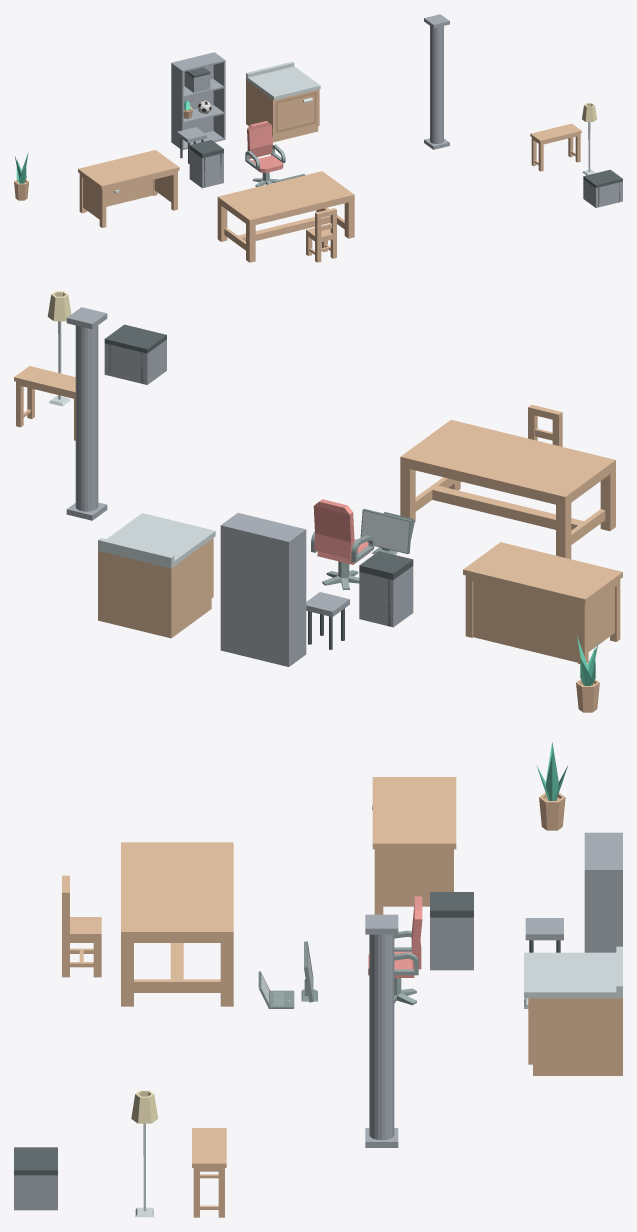
3 views of the same model, one above another, from view 1: azimuth 30°, elevation 25°; view 2: azimuth 150°, elevation 25°; view 3: azimuth 270°, elevation 25° (orthographic). The views are drawn at different scales.
Visible parts, largest first — view 1: table_green__table(Clone), desk_blue__desk(Clone), cabinet_blue__kitchenCabinet(Clone), column_cyan__column_cyan shaft, deskchair_black__chair, cabinet_blue__door, sidetable_brown__sideTable(Clone), chair_cyan__chair(Clone), bin_gray__bin_gray shell, shelf_orange__shelf_orange side_l, shelf_orange__shelf_orange side_r, crate_red__crate_red shell (+6 smaller); view 2: table_green__table(Clone), desk_blue__desk(Clone), cabinet_blue__kitchenCabinet(Clone), shelf_orange__shelf_orange back, column_cyan__column_cyan shaft, deskchair_black__chair, shelf_orange__shelf_orange side_l, bin_gray__bin_gray shell, crate_red__crate_red shell, sidetable_brown__sideTable(Clone), monitor_gray__computerScreen(Clone), crate_red__crate_red lid (+8 smaller); view 3: table_green__table(Clone), cabinet_blue__kitchenCabinet(Clone), desk_blue__desk(Clone), column_cyan__column_cyan shaft, shelf_orange__shelf_orange side_r, bin_gray__bin_gray shell, sidetable_brown__sideTable(Clone), chair_cyan__chair(Clone), crate_red__crate_red shell, deskchair_black__chair, shelf_orange__shelf_orange board3, crate_red__crate_red lid (+7 smaller).
Part boxes in pixels (left/top/right/bottom): table_green__table(Clone): left=217, top=171, right=354, bottom=262; desk_blue__desk(Clone): left=78, top=150, right=179, bottom=227; cabinet_blue__kitchenCabinet(Clone): left=246, top=61, right=320, bottom=142; column_cyan__column_cyan shaft: left=430, top=26, right=443, bottom=143; deskchair_black__chair: left=245, top=121, right=285, bottom=172; cabinet_blue__door: left=275, top=92, right=316, bottom=133; sidetable_brown__sideTable(Clone): left=530, top=123, right=581, bottom=171; chair_cyan__chair(Clone): left=306, top=208, right=336, bottom=262; bin_gray__bin_gray shell: left=189, top=149, right=223, bottom=188; shelf_orange__shelf_orange side_l: left=171, top=62, right=183, bottom=149; shelf_orange__shelf_orange side_r: left=213, top=52, right=225, bottom=139; crate_red__crate_red shell: left=583, top=179, right=622, bottom=207; table_green__table(Clone): left=400, top=420, right=615, bottom=558; desk_blue__desk(Clone): left=463, top=542, right=622, bottom=663; cabinet_blue__kitchenCabinet(Clone): left=98, top=513, right=215, bottom=638; shelf_orange__shelf_orange back: left=223, top=525, right=286, bottom=666; column_cyan__column_cyan shaft: left=75, top=325, right=98, bottom=511; deskchair_black__chair: left=311, top=499, right=374, bottom=564; shelf_orange__shelf_orange side_l: left=286, top=529, right=306, bottom=666; bin_gray__bin_gray shell: left=359, top=566, right=413, bottom=627; crate_red__crate_red shell: left=104, top=339, right=166, bottom=384; sidetable_brown__sideTable(Clone): left=14, top=366, right=75, bottom=440; monitor_gray__computerScreen(Clone): left=360, top=508, right=412, bottom=554; crate_red__crate_red lid: left=104, top=324, right=166, bottom=353; table_green__table(Clone): left=121, top=842, right=233, bottom=1006; cabinet_blue__kitchenCabinet(Clone): left=524, top=946, right=622, bottom=1075; desk_blue__desk(Clone): left=372, top=777, right=456, bottom=914; column_cyan__column_cyan shaft: left=369, top=934, right=394, bottom=1140; shelf_orange__shelf_orange side_r: left=584, top=868, right=622, bottom=952; bin_gray__bin_gray shell: left=430, top=917, right=473, bottom=970; sidetable_brown__sideTable(Clone): left=192, top=1128, right=226, bottom=1217; chair_cyan__chair(Clone): left=62, top=875, right=101, bottom=977; crate_red__crate_red shell: left=14, top=1175, right=57, bottom=1210; deskchair_black__chair: left=368, top=896, right=422, bottom=977; shelf_orange__shelf_orange board3: left=584, top=834, right=620, bottom=868; crate_red__crate_red lid: left=14, top=1147, right=57, bottom=1175.
Size of the model in its own units: 8.56 by 2.2 by 5.54.
